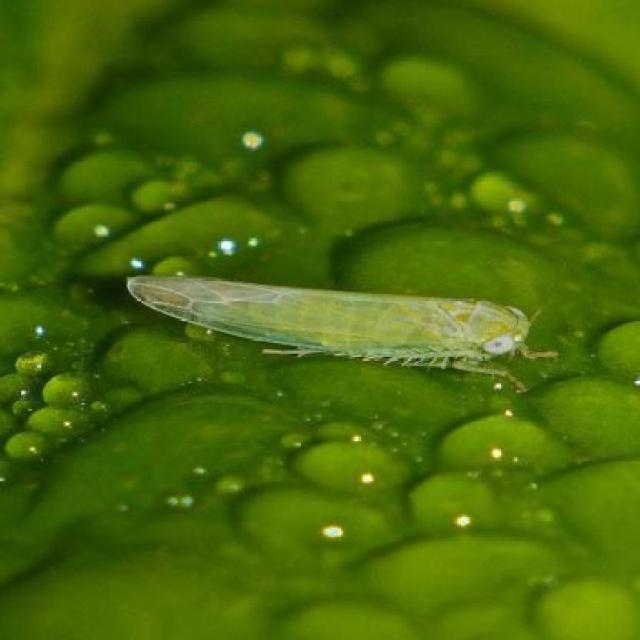green-leafhopper: (124, 270, 551, 376)
